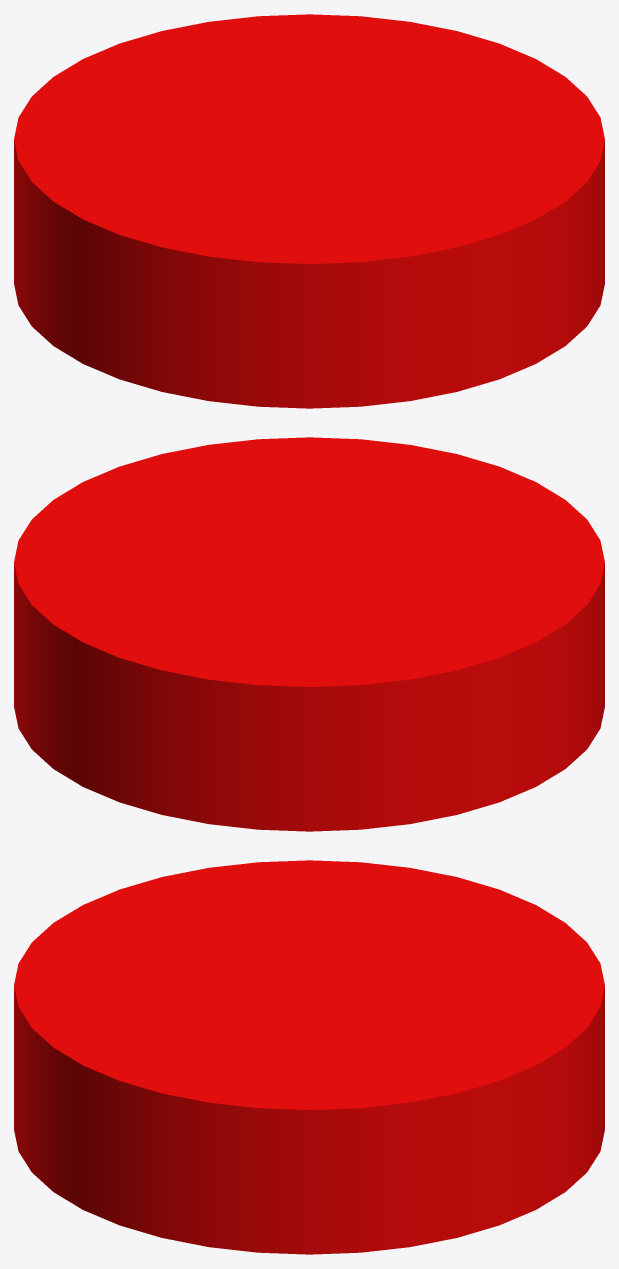
The model's file is COLLISION_WHEEL_12.dae.
The picture shows the model from 3 angles, top to bottom: view 1: azimuth 30°, elevation 25°; view 2: azimuth 150°, elevation 25°; view 3: azimuth 270°, elevation 25°; orthographic projection.
Visible parts, largest first — view 1: COLLISION_WHEEL_12; view 2: COLLISION_WHEEL_12; view 3: COLLISION_WHEEL_12.
Part boxes in pixels (x1=…): COLLISION_WHEEL_12: x1=14, y1=14, x2=604, y2=408; COLLISION_WHEEL_12: x1=14, y1=437, x2=604, y2=831; COLLISION_WHEEL_12: x1=14, y1=860, x2=604, y2=1254.
Size of the model in its own units: 0.5856 by 0.158 by 0.5856.
